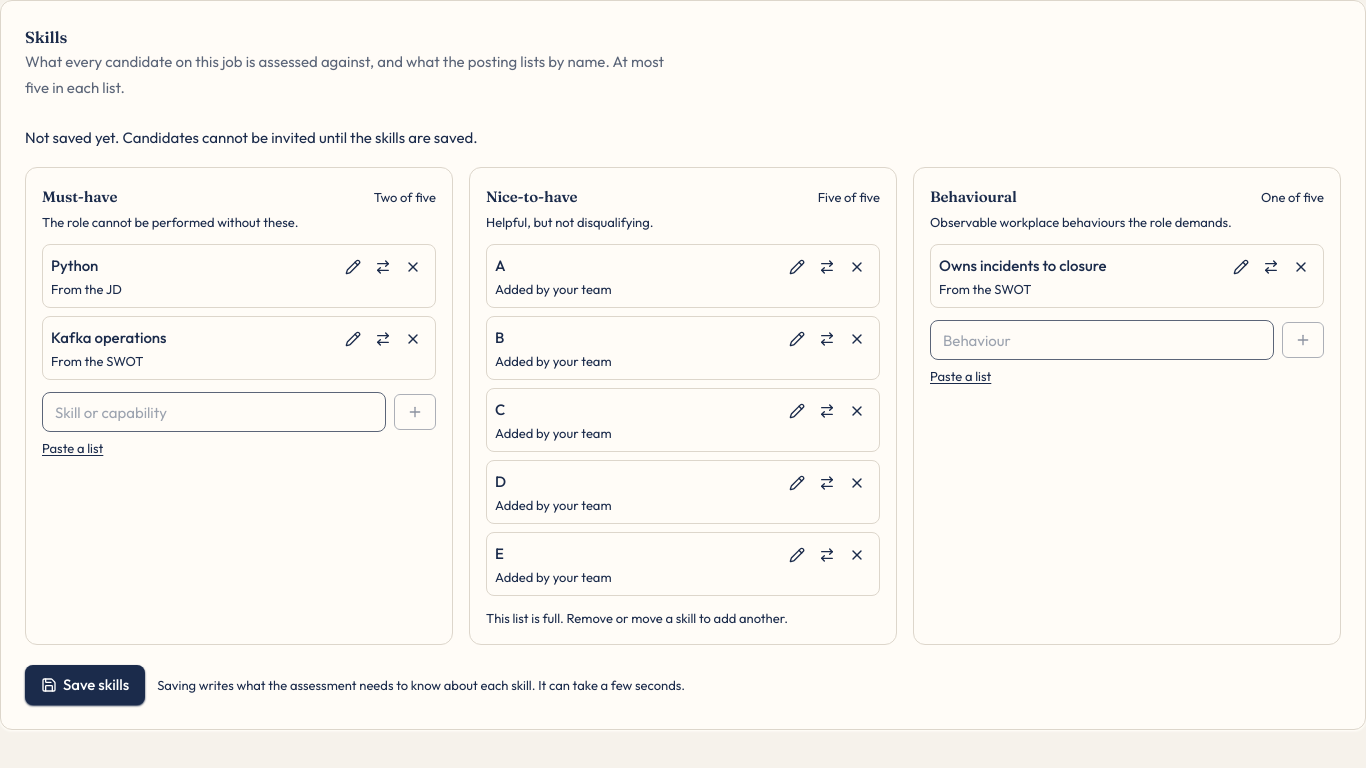
Test: a user who may edit every bucket › does not offer a move into a full bucket, and hides the add line there
Expected: the text "Python" is shown, [51, 256, 98, 275]
Expected: the text "Five of five" is shown, [818, 187, 880, 207]
Click the button named "Move Python" at (383, 267), box [369, 253, 397, 281]
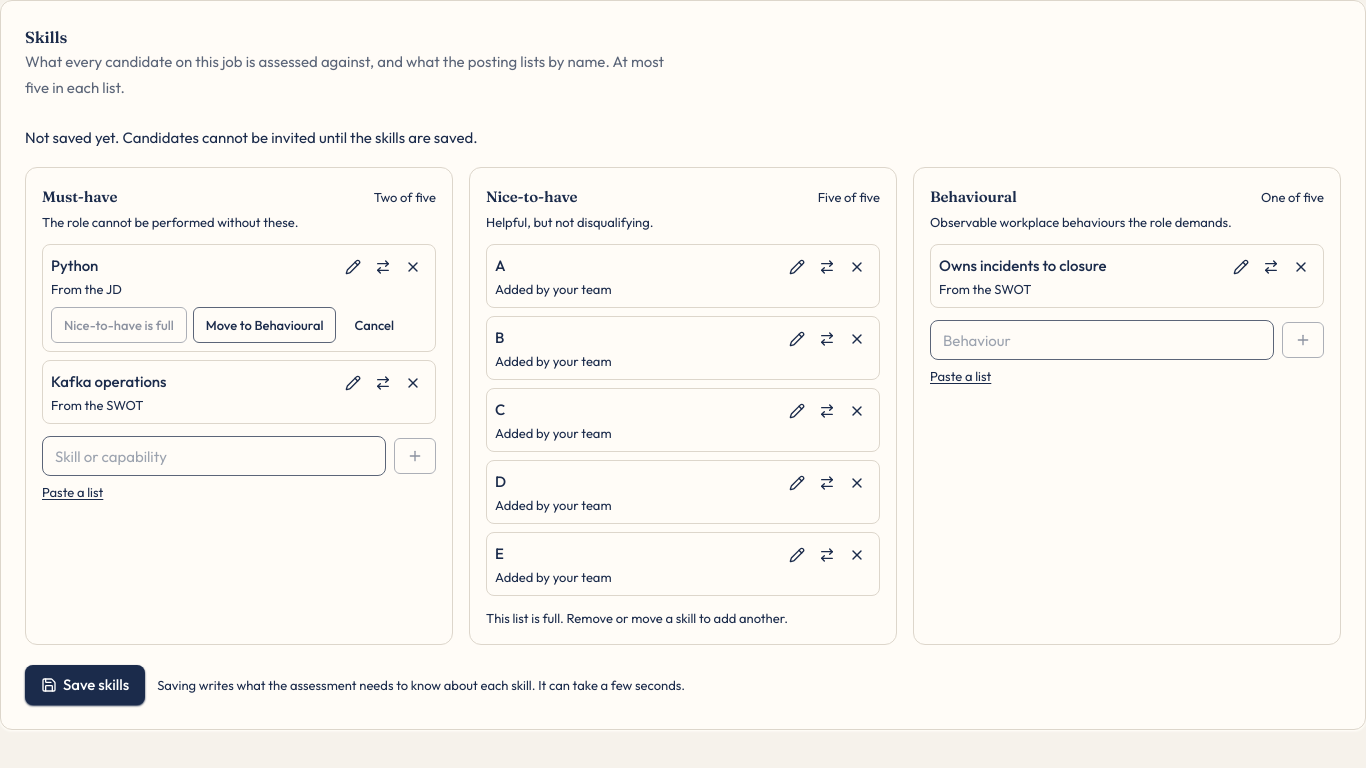
Now the button "Nice-to-have is full" is disabled, box [51, 307, 187, 343]
